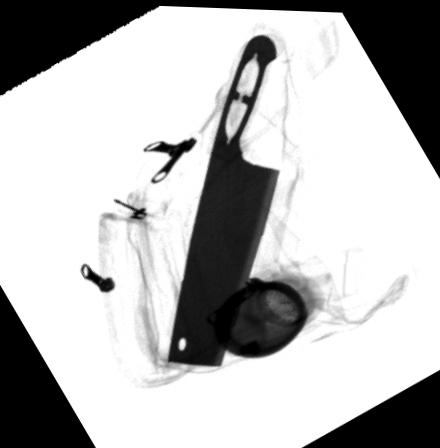Knife: (165, 30, 282, 365)
